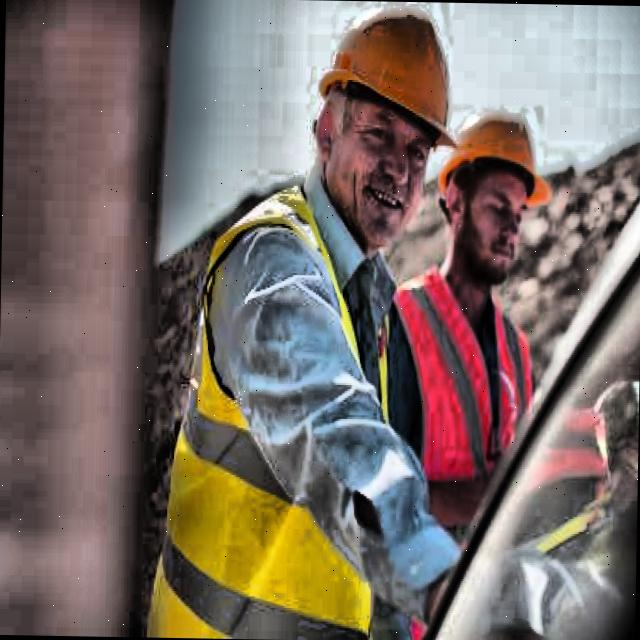helmet: (306, 0, 472, 267), (424, 83, 551, 294)
